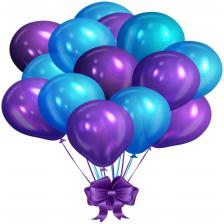purple: (67, 100, 134, 167), (132, 51, 201, 111), (1, 78, 65, 140), (73, 46, 137, 100), (152, 96, 212, 148), (10, 20, 60, 72), (84, 176, 139, 222), (98, 12, 134, 41)
